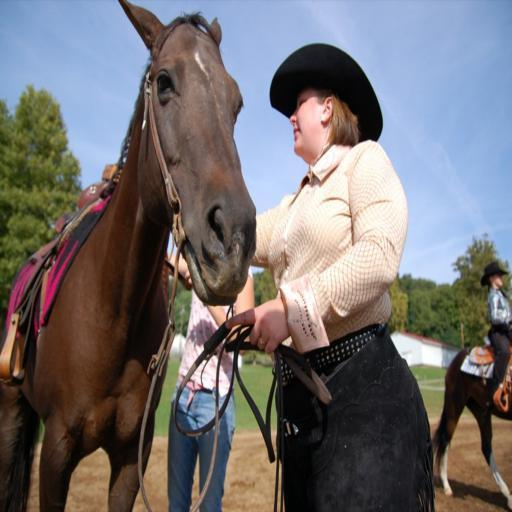horse: (0, 0, 259, 509), (434, 346, 512, 512)
